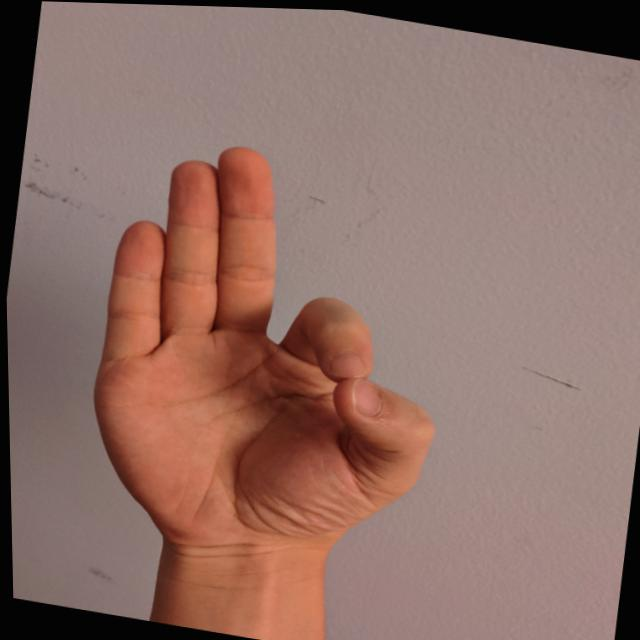F: (59, 116, 483, 595)
